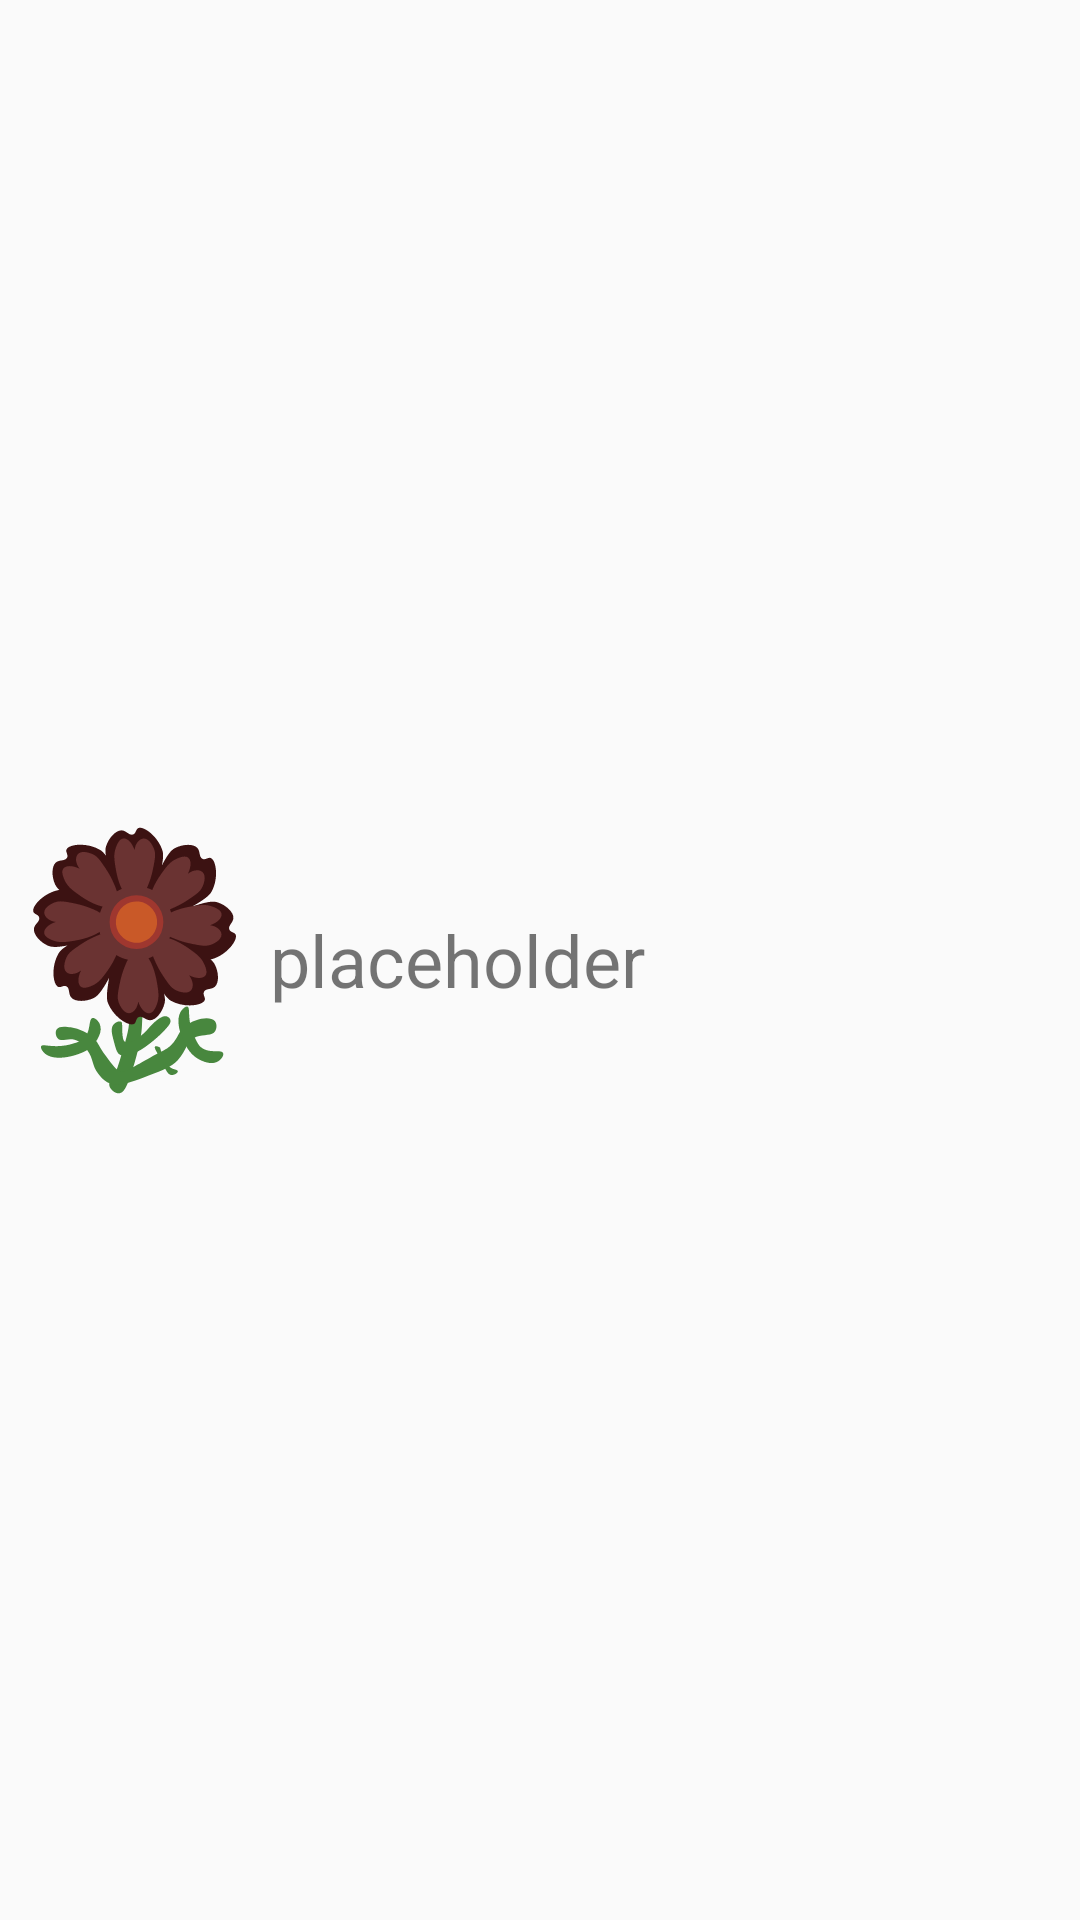

Icons on this 1080*1920 Android screen, each with its box as box=[x1, y1, x2, y2]:
cosmo: box=[33, 827, 236, 1094]
